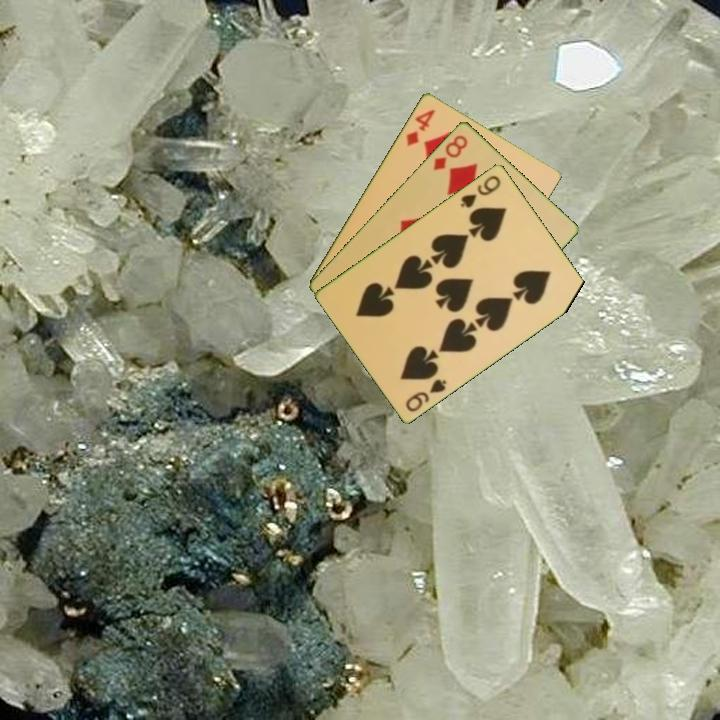4d: (402, 105, 438, 149)
8d: (429, 131, 470, 173)
9s: (457, 171, 504, 211), (402, 375, 449, 415)
